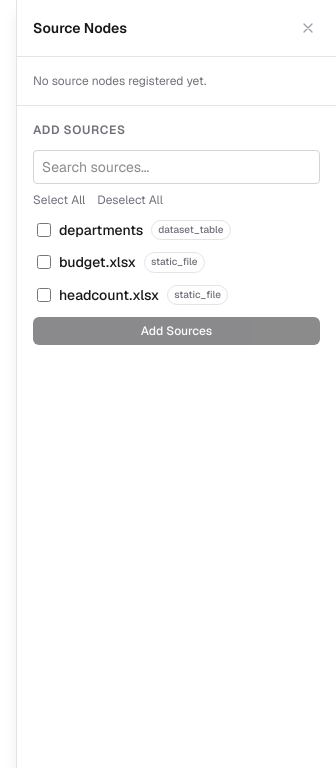
Test: SourceRegistrationDrawer › supports Select All and Deselect All
The image size is (336, 768).
Expected: the text "selected" is not shown
// Click Select All
Click the button "Select All" at (59,200), box top-left (33, 192), bottom-right (85, 208)
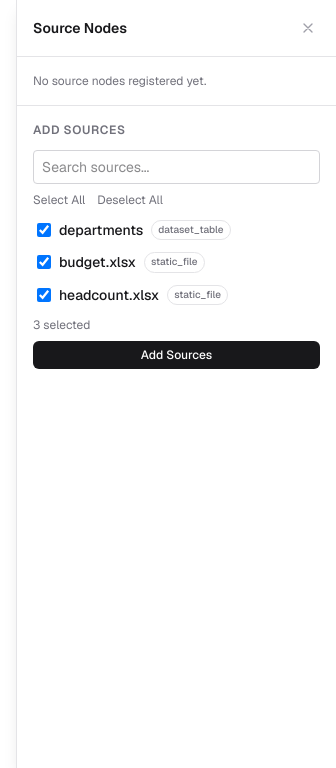
Expected: the checkbox labelled "departments dataset_table" is checked, top-left (37, 223), bottom-right (51, 237)
Expected: the checkbox labelled "budget.xlsx static_file" is checked, top-left (37, 255), bottom-right (51, 269)
Expected: the checkbox labelled "headcount.xlsx static_file" is checked, top-left (37, 288), bottom-right (51, 302)
// Click Deselect All
Click the button "Deselect All" at (130,200), box top-left (97, 192), bottom-right (163, 208)
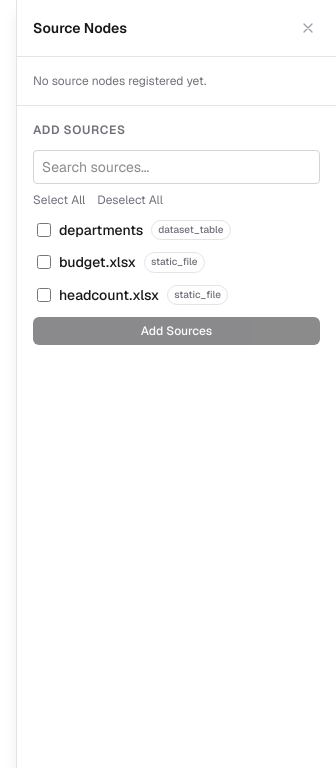
Expected: the checkbox labelled "departments dataset_table" is not checked, top-left (37, 223), bottom-right (51, 237)
Expected: the checkbox labelled "budget.xlsx static_file" is not checked, top-left (37, 255), bottom-right (51, 269)
Expected: the checkbox labelled "headcount.xlsx static_file" is not checked, top-left (37, 288), bottom-right (51, 302)
